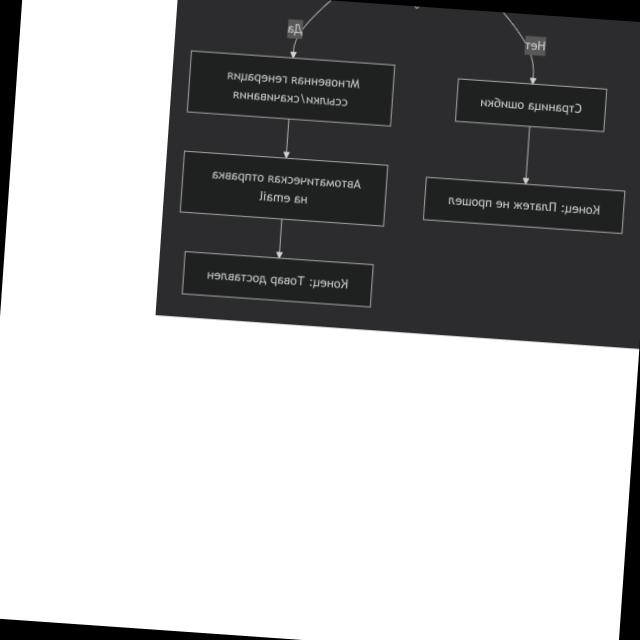arrow: (301, 0, 330, 30), (502, 12, 526, 43), (522, 126, 529, 183), (275, 219, 281, 258), (283, 120, 288, 157)
rectangle: (179, 151, 386, 226), (186, 51, 393, 126), (423, 177, 624, 233), (182, 251, 372, 307), (455, 79, 606, 132)
text_region: (282, 19, 312, 39), (522, 36, 546, 54)
